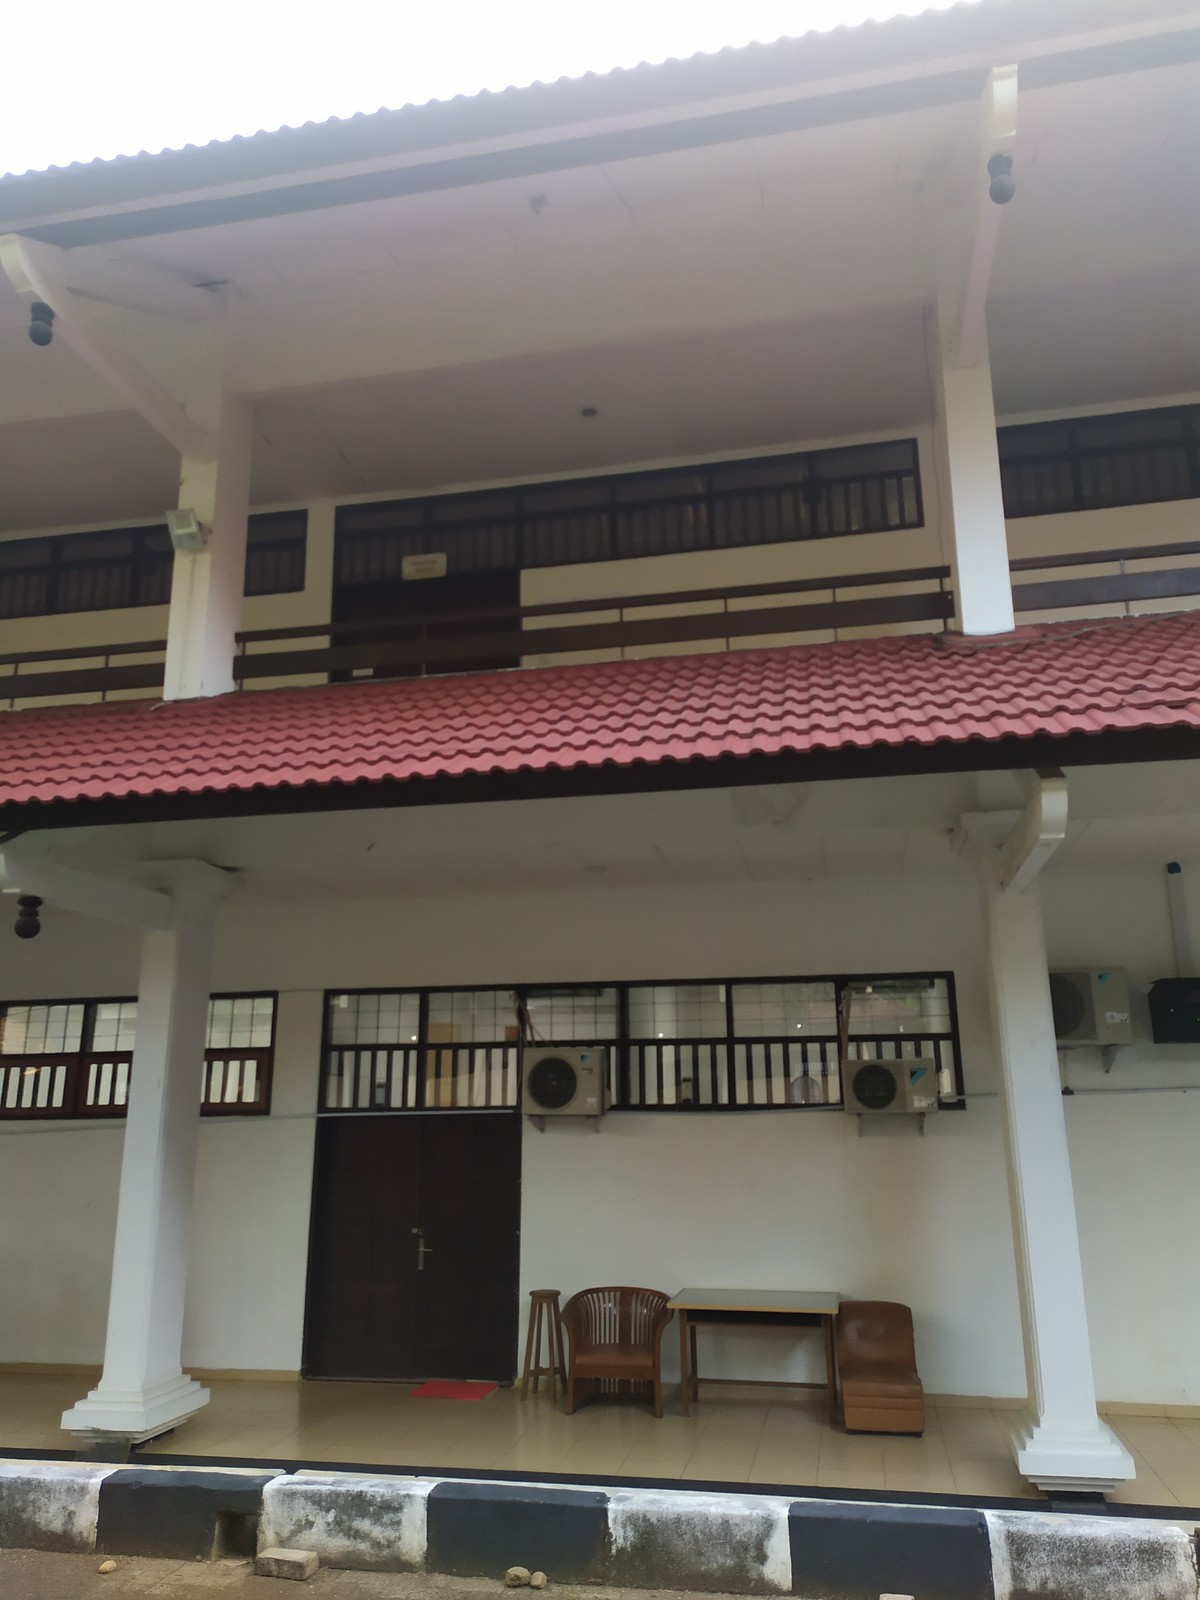concrete column: (977, 855, 1116, 1432), (105, 931, 213, 1374), (158, 289, 265, 693)
